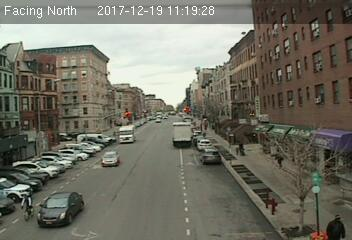bicycle: (18, 190, 36, 220)
car: (36, 190, 84, 223), (201, 148, 218, 164), (101, 151, 118, 166)
truck: (171, 121, 194, 147), (118, 125, 136, 143)
